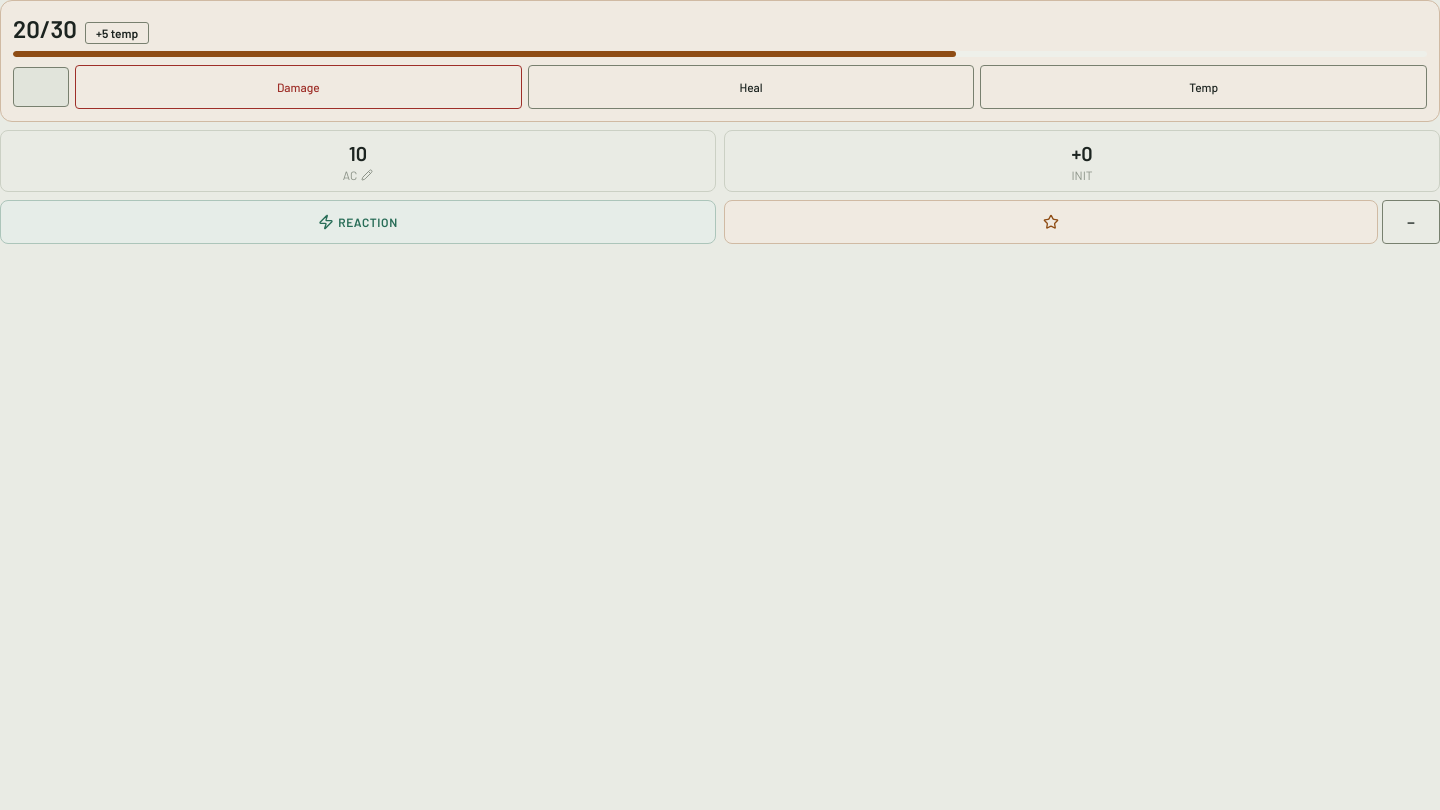
Scenario: DockVitals › opens the armor class editor from the AC card
What coordinates should you click on to do the following:
click the button with aria-label "edit armor class"
I would click on:
 (358, 161)
Its box is [0,130,716,192].
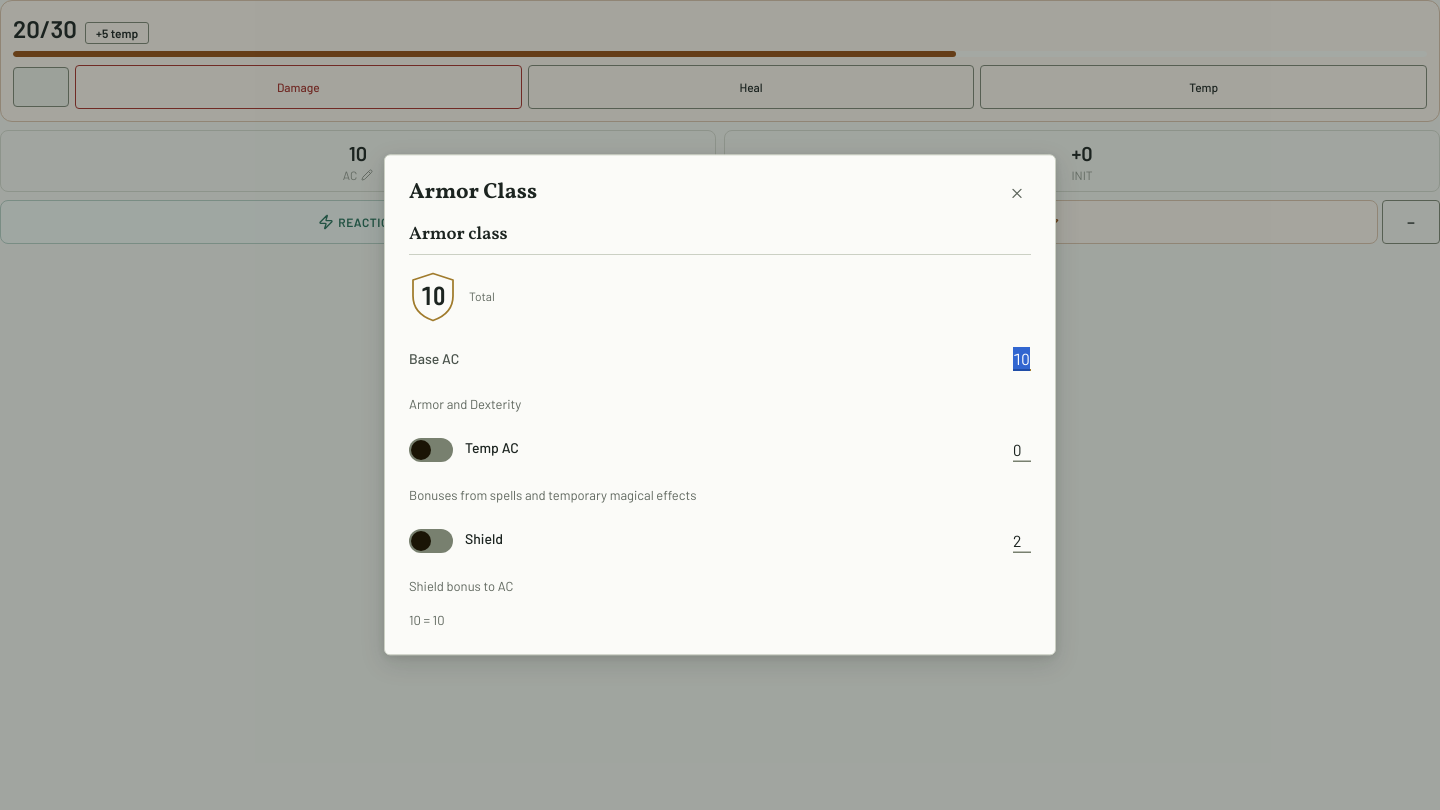
Check: the dialog is shown, box [384,154,1056,656]
Check: the heading "Armor Class" is shown, box [409,177,537,208]
